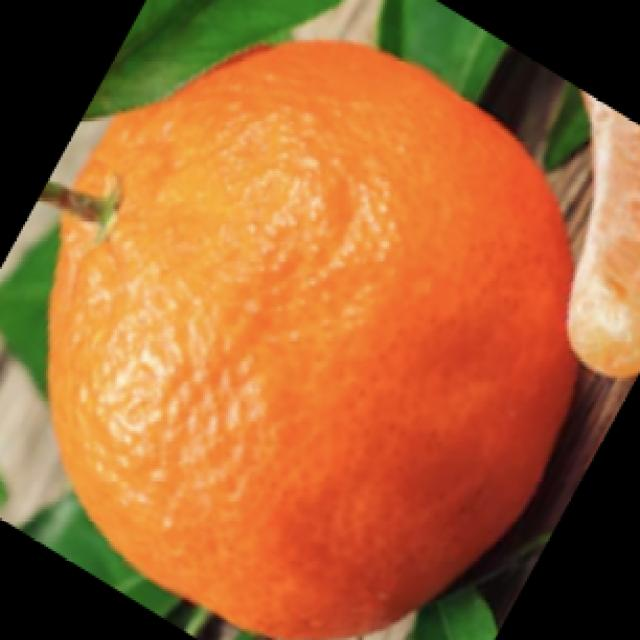orange: (43, 56, 590, 640)
